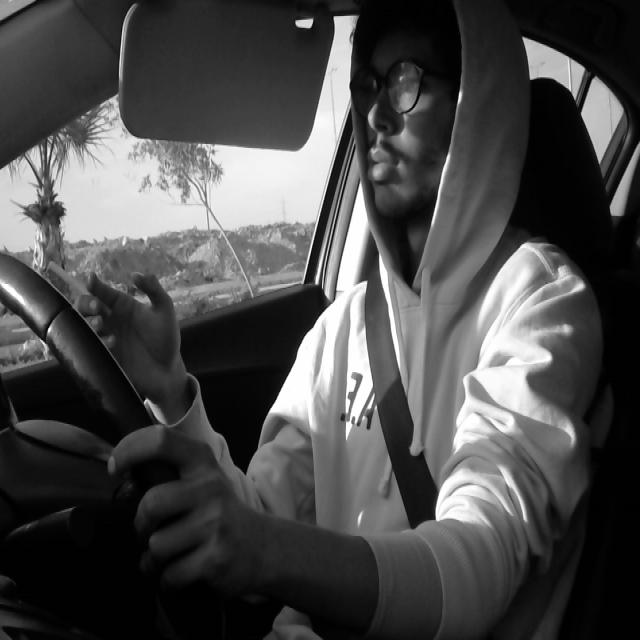smoking: (44, 252, 119, 328)
